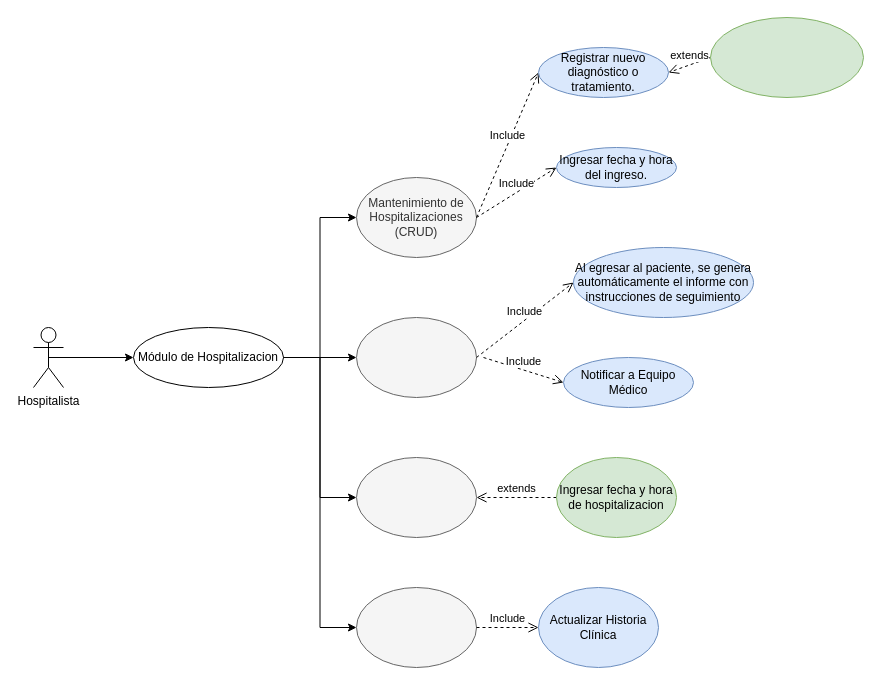
The diagram is 881 pixels wide and 685 high, and some of its shapes have lost their labels. Here are the shapes that lost their labels. From the top down, the box of each, then its label:
(710, 16, 864, 98): Enviar notificación de actualización al paciente si es necesario.
(356, 316, 476, 398): Egreso del Paciente
(356, 456, 476, 538): Administrar Días de Hospitalización
(356, 586, 476, 668): Reportar Motivo de Hospitalización
